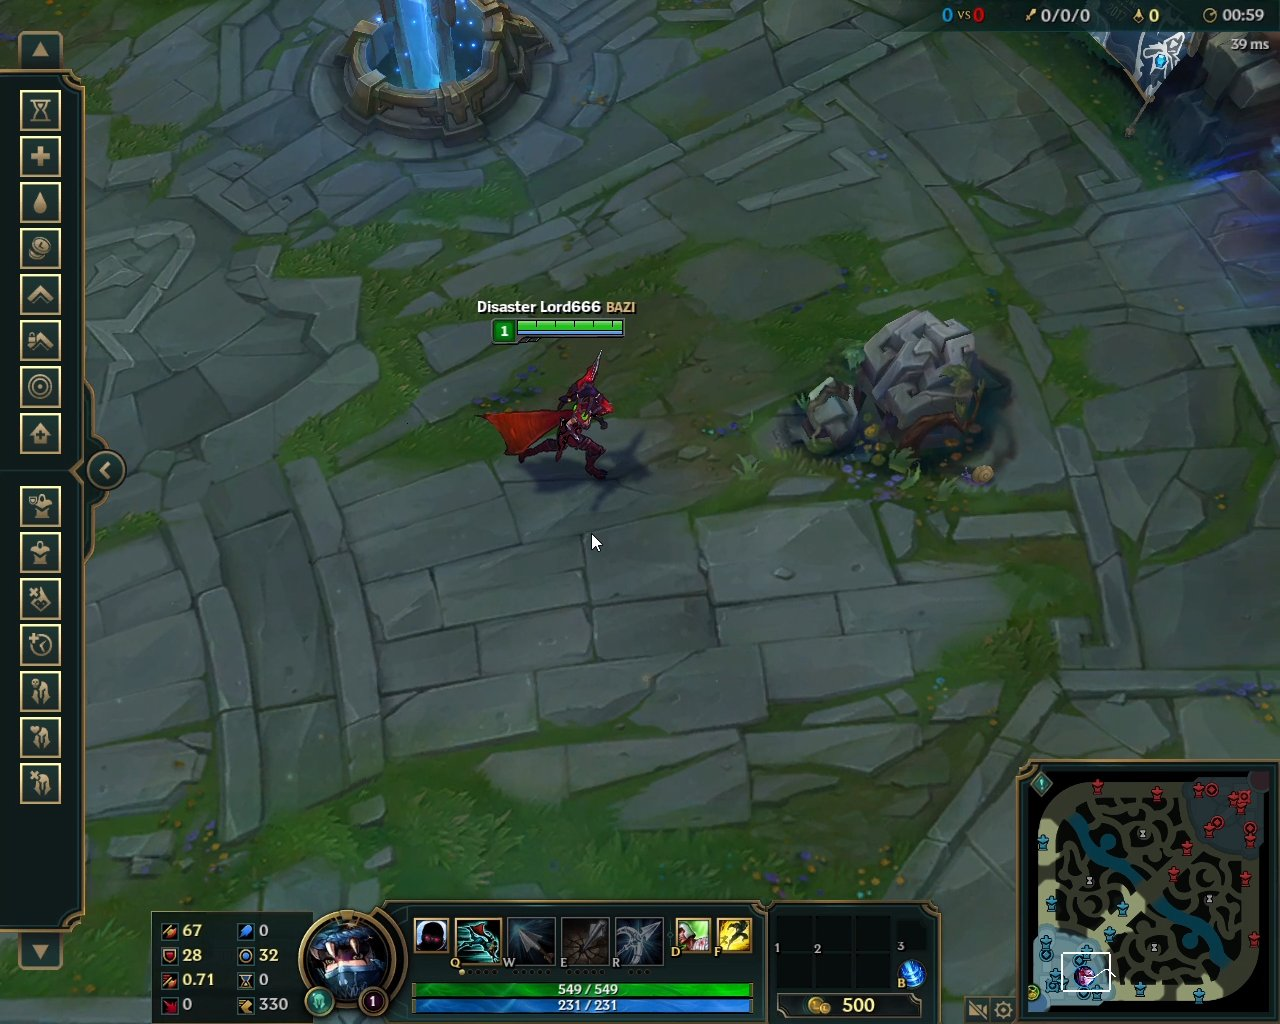Vayne: (469, 345, 615, 490)
